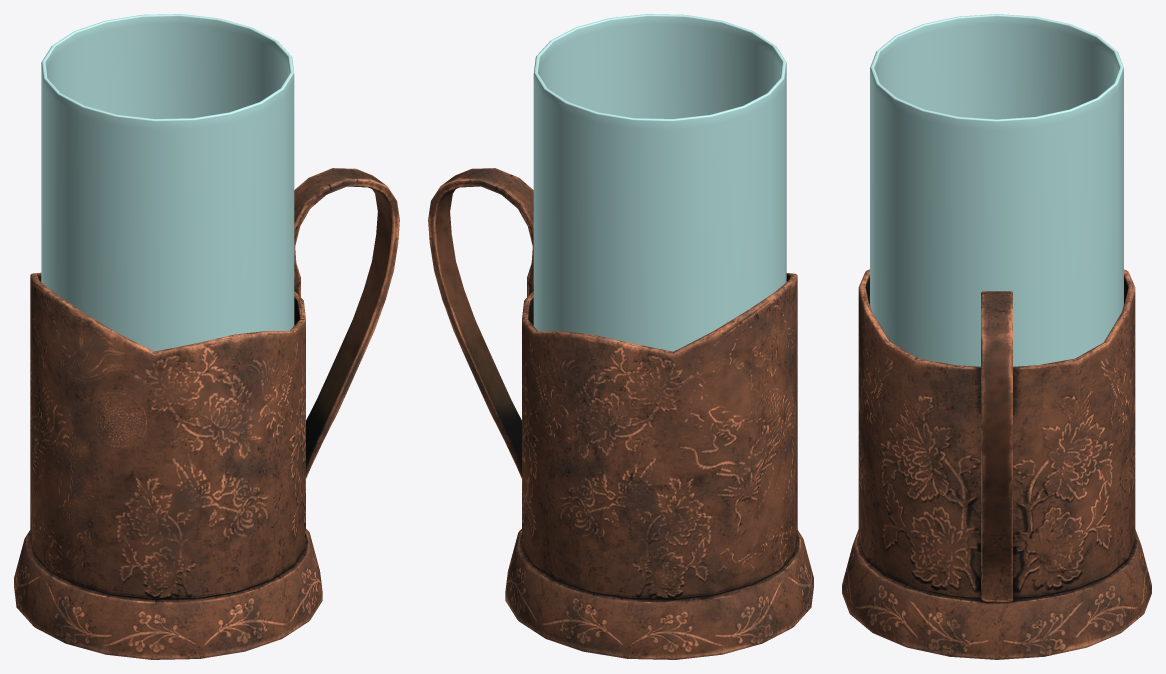
File: obj_cupholder_93c594.glb
The picture shows the model from 3 angles, left to right: view 1: azimuth 30°, elevation 25°; view 2: azimuth 150°, elevation 25°; view 3: azimuth 270°, elevation 25°; orthographic projection.
Parts seen in each view (by area): view 1: obj_cupholder_93c594; view 2: obj_cupholder_93c594; view 3: obj_cupholder_93c594.
Part boxes in pixels (left/top/right/bottom): obj_cupholder_93c594: left=14, top=14, right=399, bottom=659; obj_cupholder_93c594: left=428, top=14, right=813, bottom=659; obj_cupholder_93c594: left=842, top=14, right=1151, bottom=659.
Bounding box in the file's own units: 0.1775 × 0.25 × 0.133.
Materials: 2 (1 with a texture image).
